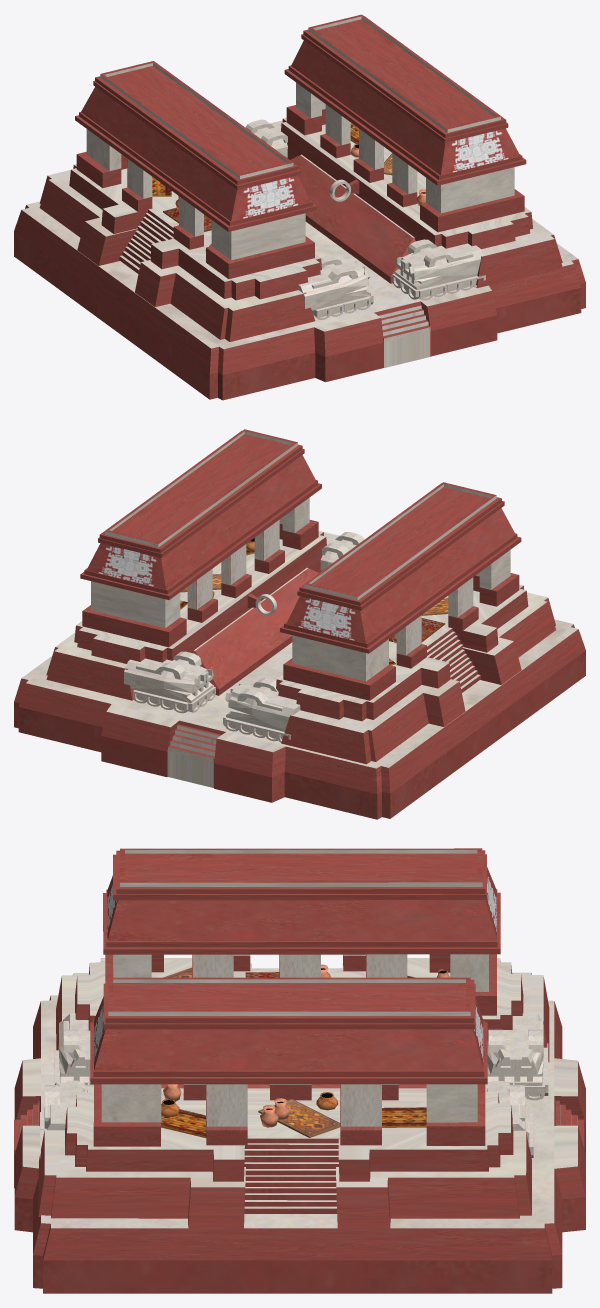
The model's file is ball_2.dae.
3 views of the same model, one above another, from view 1: azimuth 30°, elevation 25°; view 2: azimuth 150°, elevation 25°; view 3: azimuth 270°, elevation 25° (orthographic). The views are drawn at different scales.
Parts seen in each view (by area): view 1: b_2; view 2: b_2; view 3: b_2.
Boxes of the visible parts, box(x1,y1,x2,y2) form: b_2: box(14, 14, 585, 400); b_2: box(14, 429, 585, 819); b_2: box(14, 848, 585, 1293).
Bounding box in the file's own units: 29.26 × 29.63 × 13.95.
